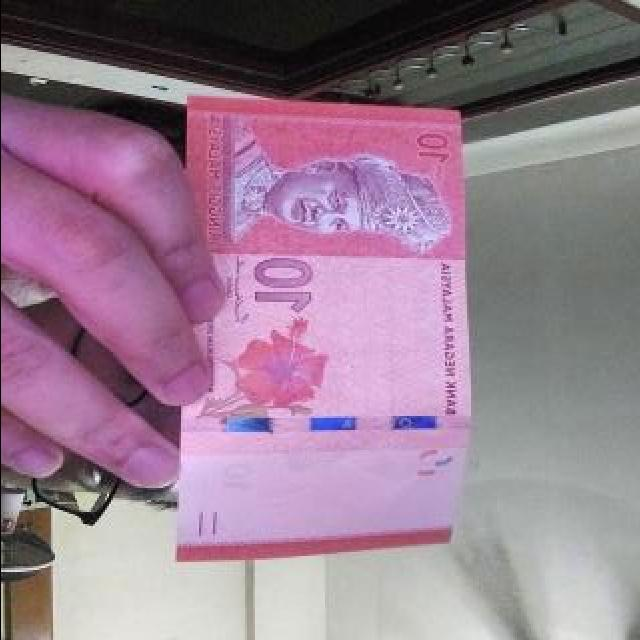10 Ringgit: (167, 90, 470, 566)
